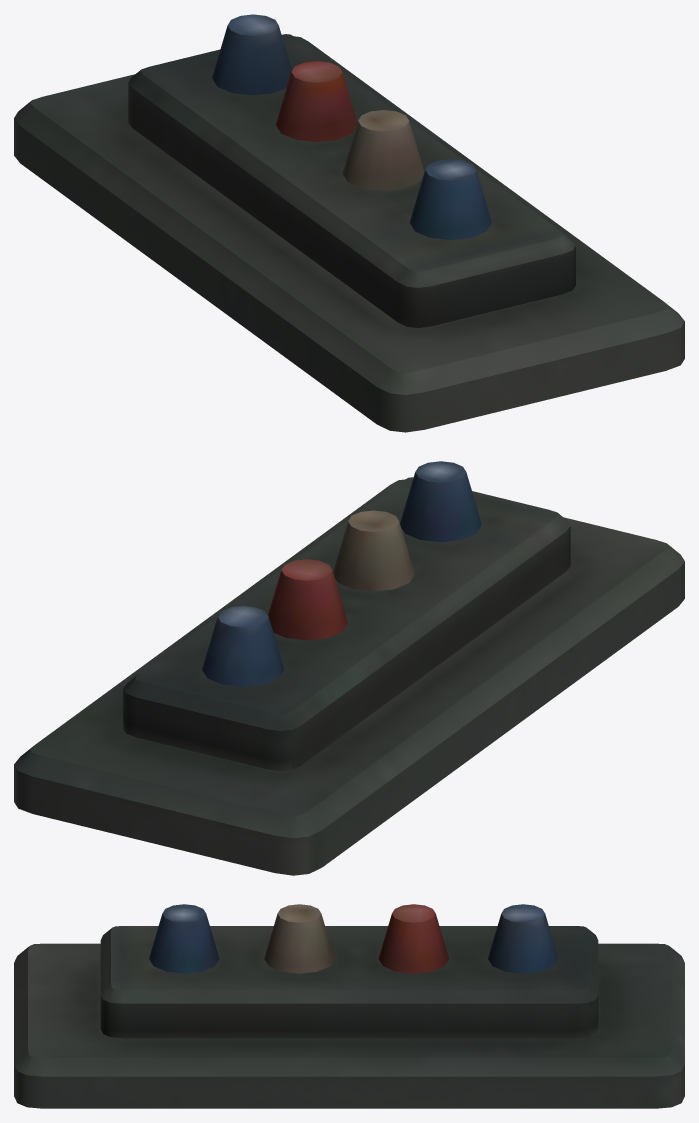
The model's file is Buttons_01.FBX.
3 views of the same model, one above another, from view 1: azimuth 30°, elevation 25°; view 2: azimuth 150°, elevation 25°; view 3: azimuth 270°, elevation 25° (orthographic). The views are drawn at different scales.
Visible parts, largest first — view 1: Buttons_01; view 2: Buttons_01; view 3: Buttons_01.
Part boxes in pixels (left/top/right/bottom): Buttons_01: left=14, top=14, right=684, bottom=432; Buttons_01: left=14, top=461, right=684, bottom=875; Buttons_01: left=14, top=904, right=684, bottom=1108.
Size of the model in its own units: 10.07 by 4.99 by 22.62.
